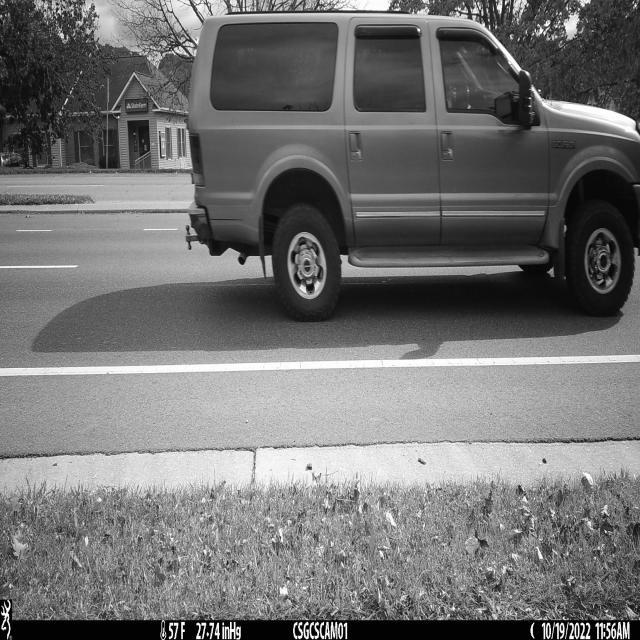SUV: (186, 11, 640, 324)
